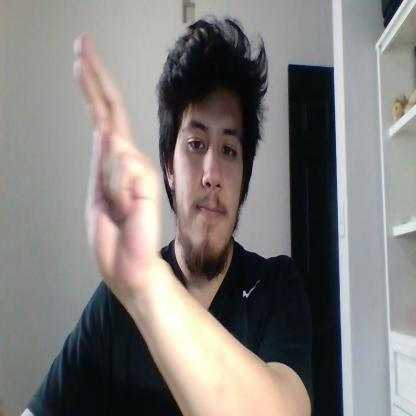R: (74, 32, 161, 285)
